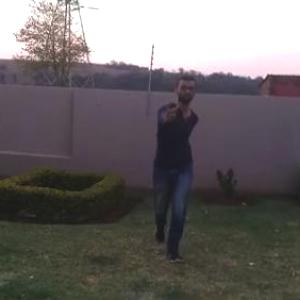takeoff-hand: (160, 94, 186, 130)
